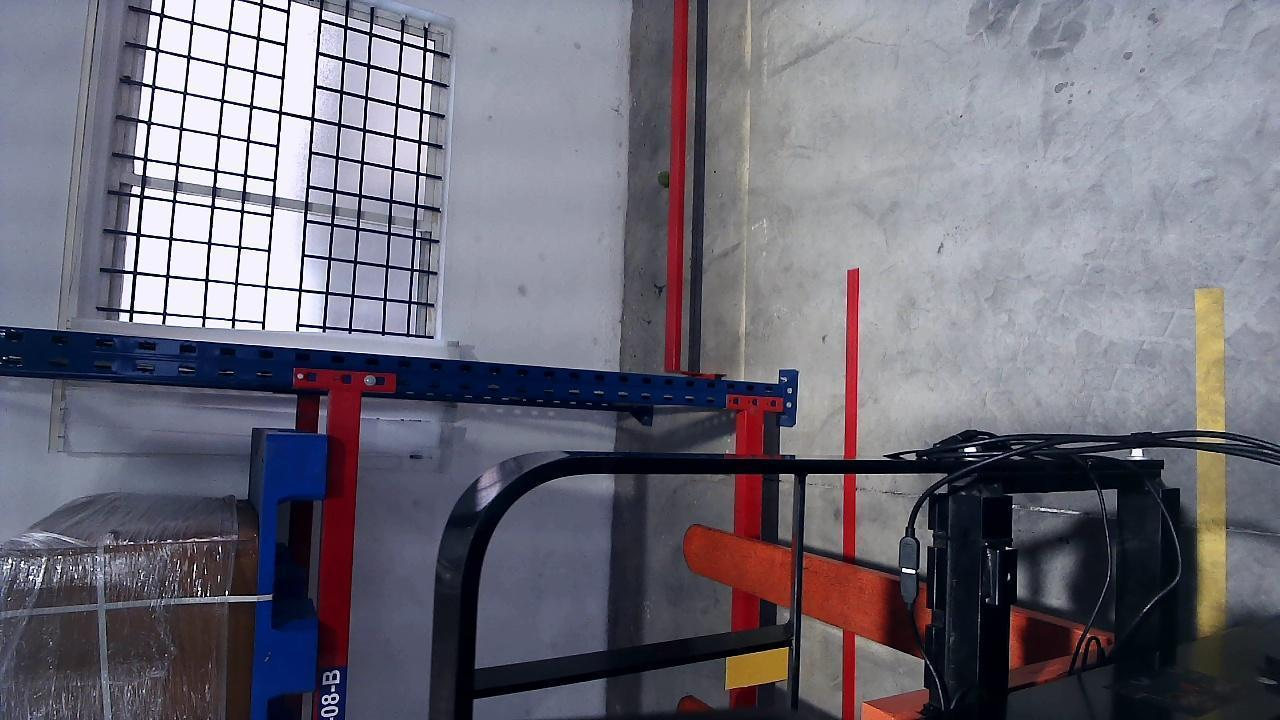red_line: (840, 267, 861, 720)
yellow_line: (1194, 288, 1227, 633)
